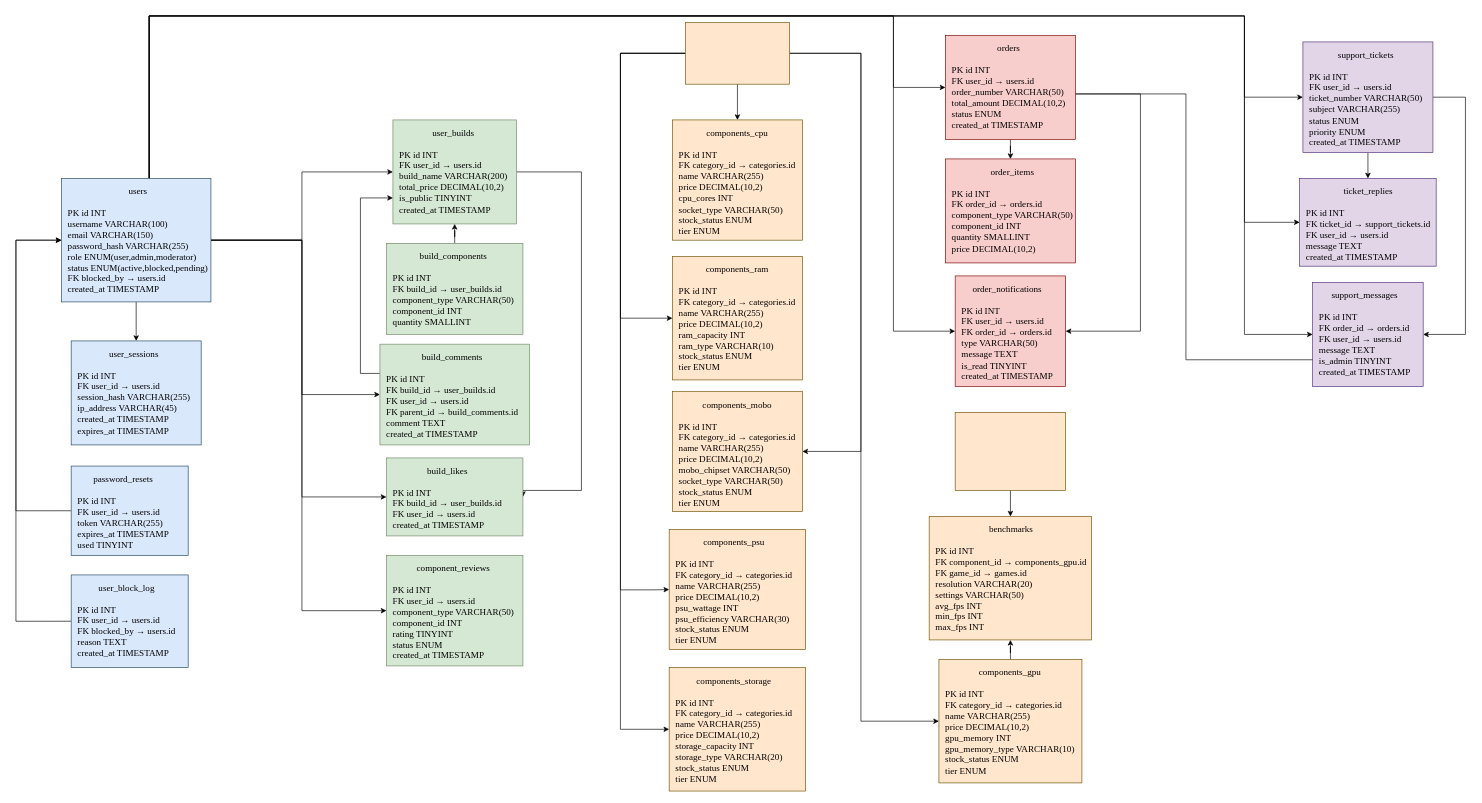
Some shapes in this 1482 by 803 pixel diagram are drawn without their labels. The shapes that lost their labels are listed below. From the top down, each one's centre as x and y in pixels, then its label:
point 737,53: categories PK id INT name VARCHAR(100) slug VARCHAR(100)
point 1010,451: games PK id INT name VARCHAR(200) release_year SMALLINT genre VARCHAR(100)
